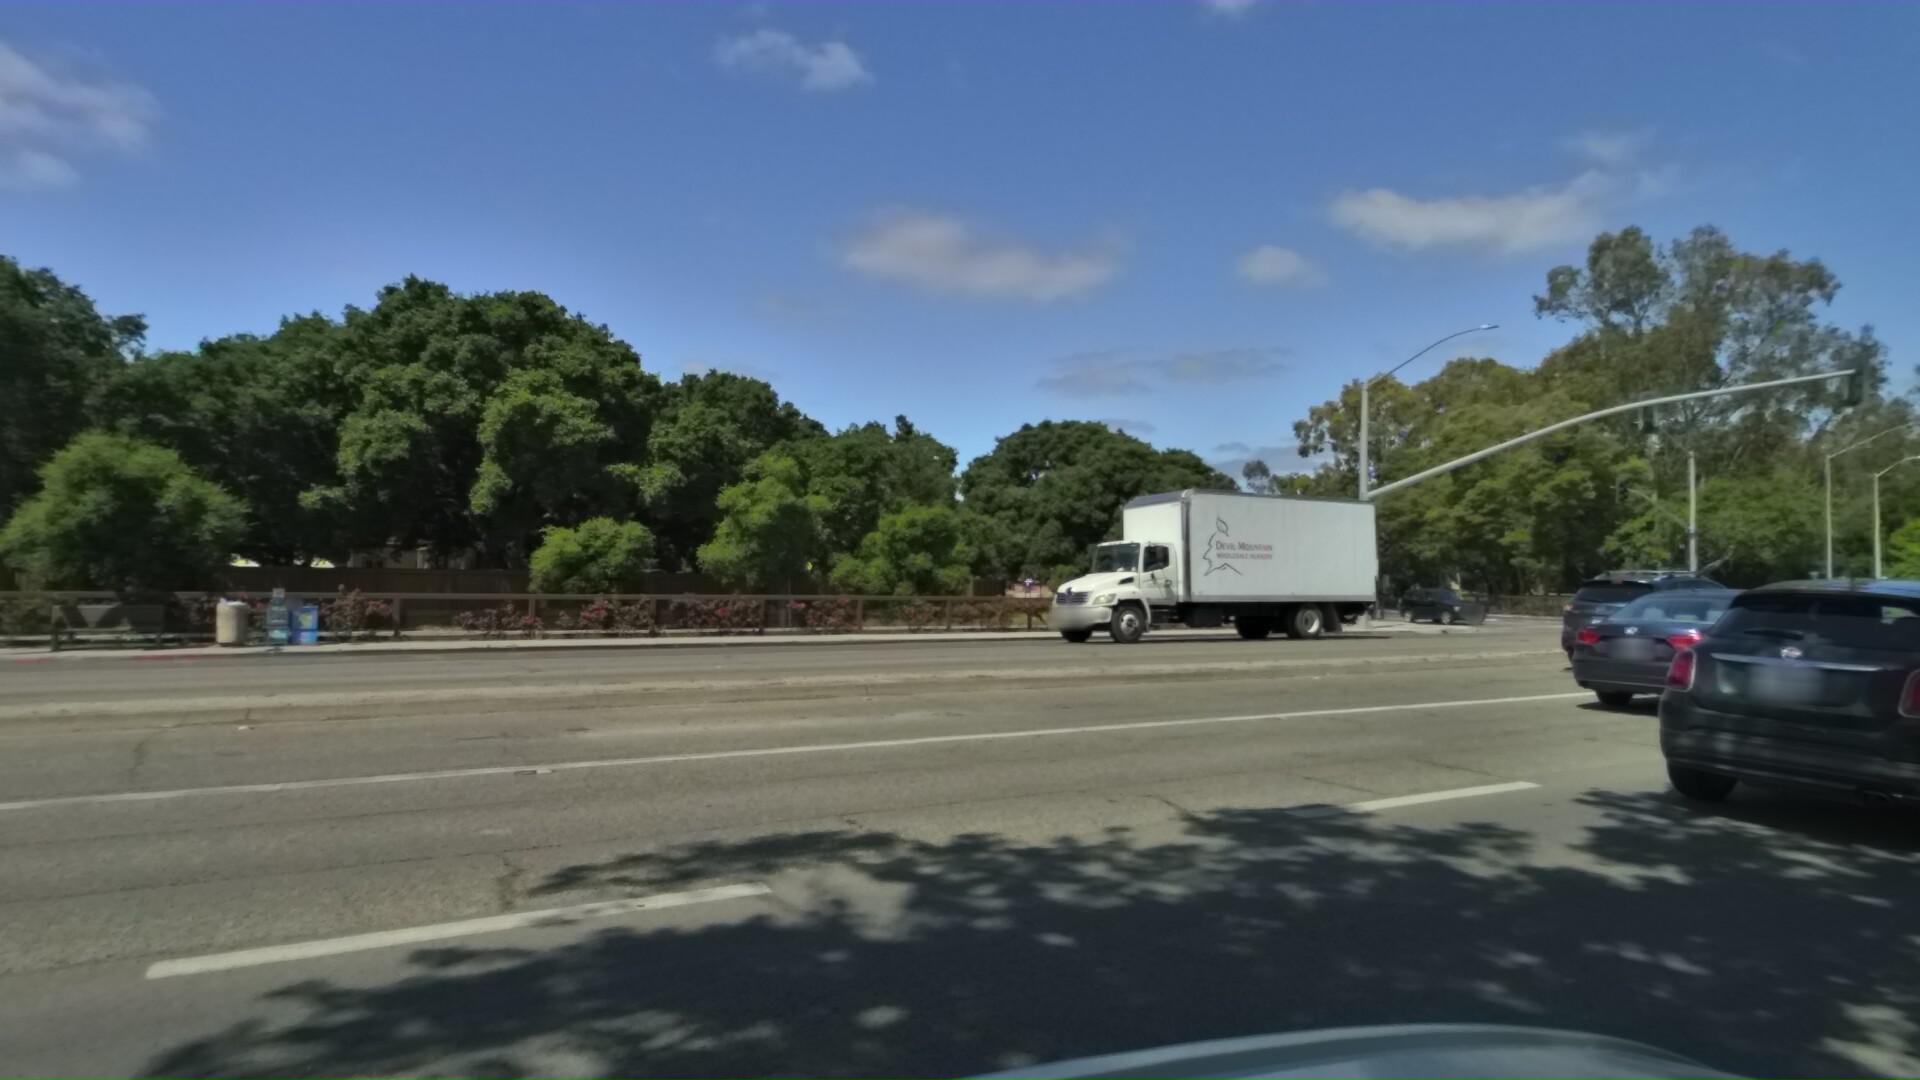car: (1638, 549, 1920, 884), (1571, 580, 1913, 729), (1549, 560, 1803, 680), (1822, 558, 1920, 644), (1393, 578, 1487, 618), (1305, 574, 1386, 608)
truck: (1007, 465, 1382, 642)
